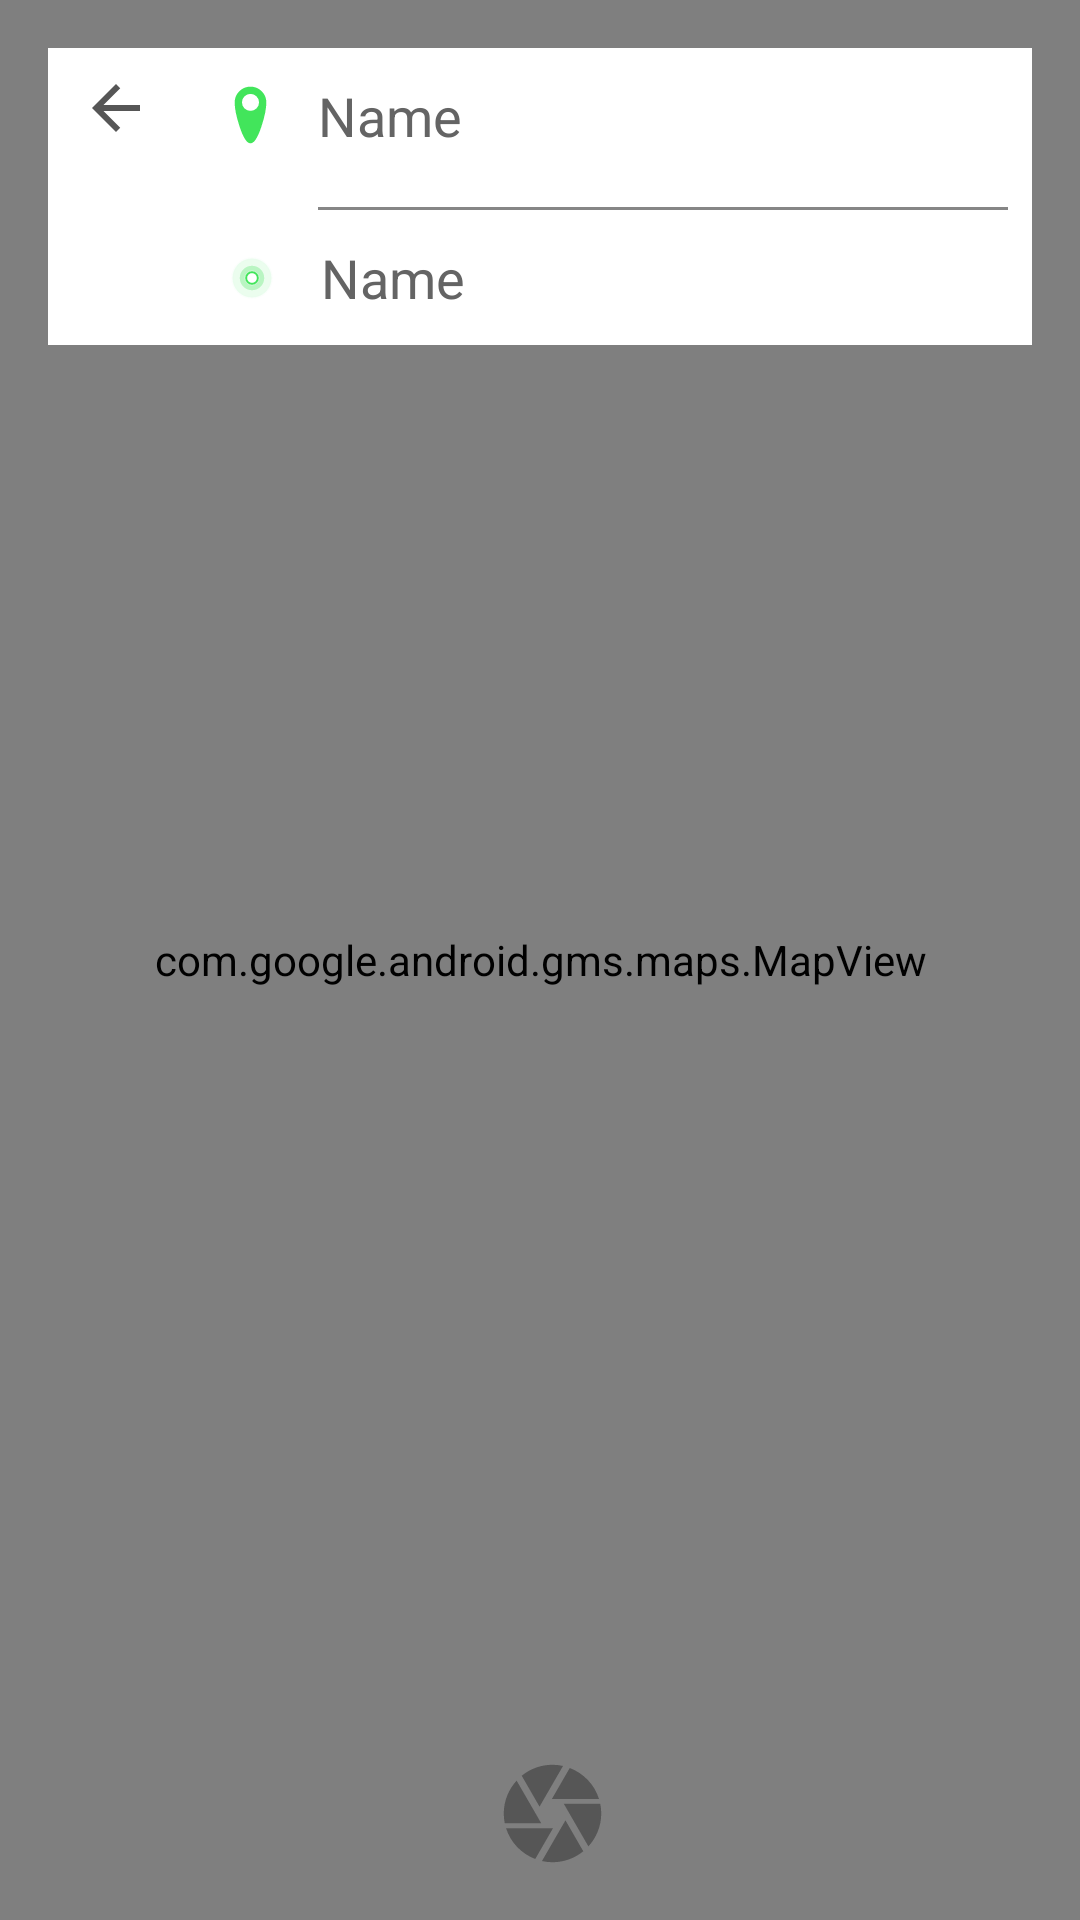

Screen size 1080 × 1920. Icon name, then its center in pixels as [x,y]:
arrow back: [116,108]
camera: [552,1813]
location: [250,115]
location current: [252,278]
